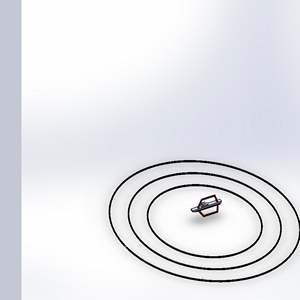circle: (104, 154, 299, 287)
submarine: (183, 192, 224, 223)
